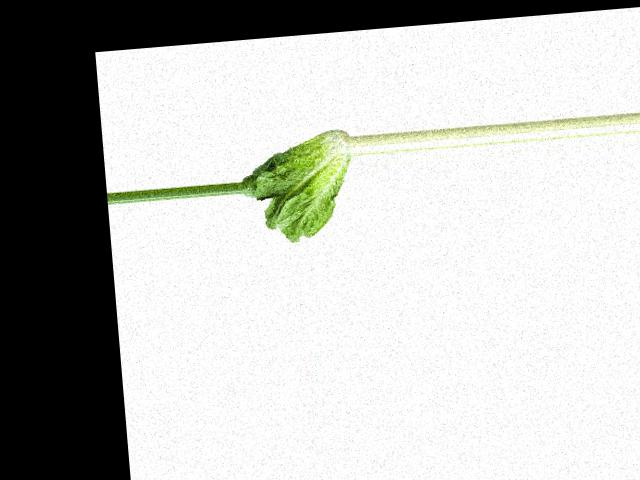lettuce: (240, 127, 357, 247)
